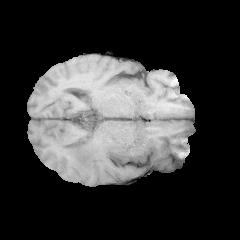glioma: (67, 133, 99, 174)
